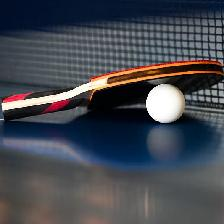WhiteBall: (145, 83, 184, 123)
